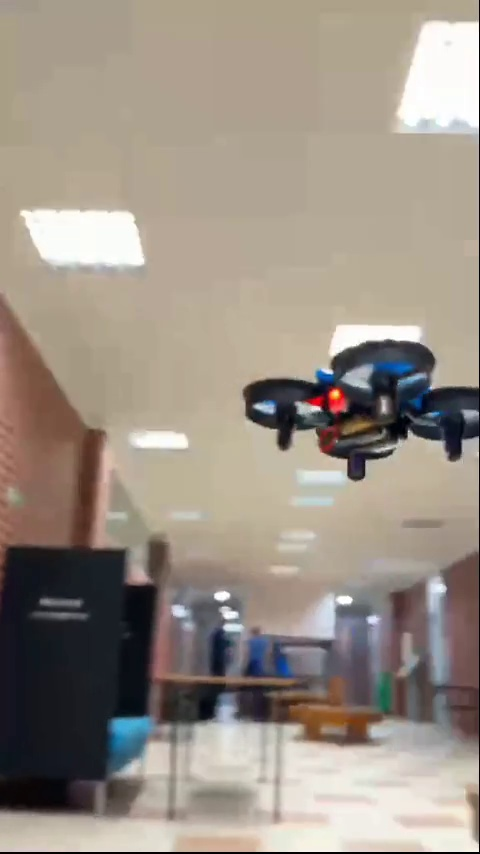drone: (243, 346, 480, 492)
no vest: (240, 627, 267, 677), (207, 623, 229, 672)
